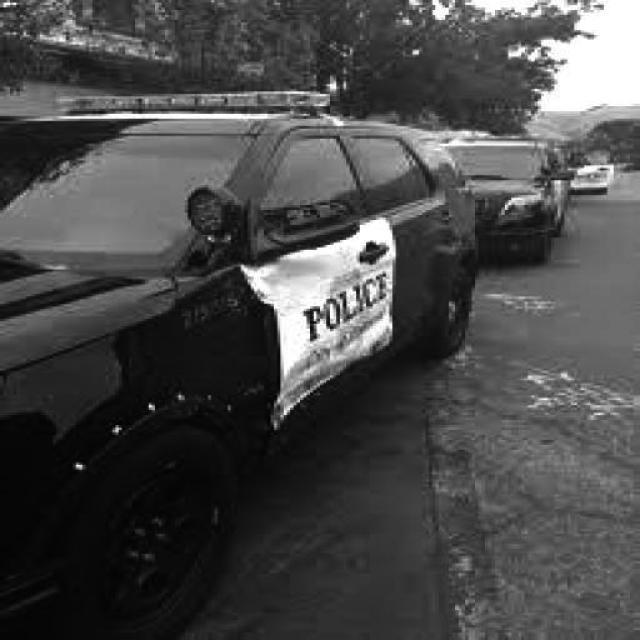car damage: (177, 247, 410, 441)
